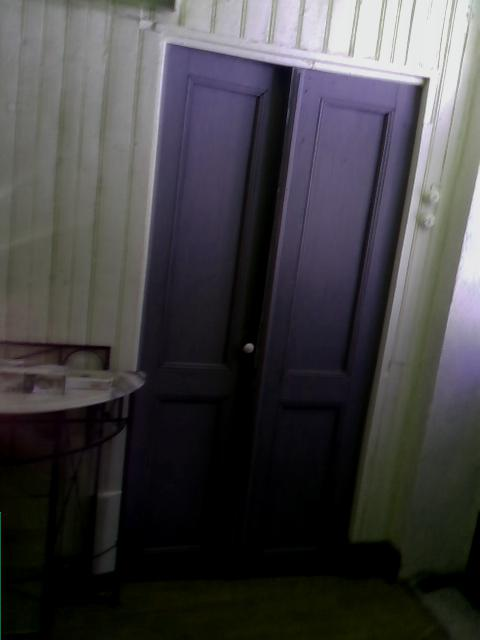closed_door: (113, 39, 436, 571)
